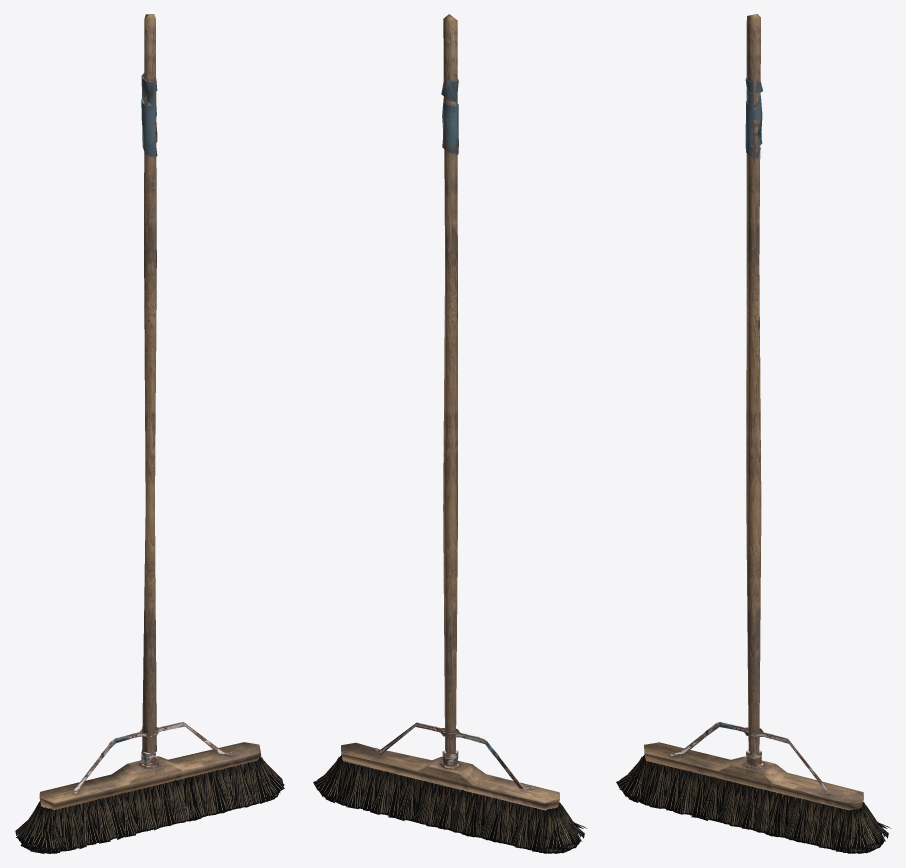
Rendered from wooden_broom.glb.
3 views of the same model, side by side, from view 1: azimuth 30°, elevation 25°; view 2: azimuth 150°, elevation 25°; view 3: azimuth 330°, elevation 25° (orthographic).
Parts seen in each view (by area): view 1: wooden_broom_handle, wooden_broom_bristles; view 2: wooden_broom_handle, wooden_broom_bristles; view 3: wooden_broom_handle, wooden_broom_bristles.
Part boxes in pixels (x1,y1,x2,y2): wooden_broom_handle: [39, 14, 261, 809]; wooden_broom_bristles: [15, 756, 284, 853]; wooden_broom_handle: [341, 14, 559, 810]; wooden_broom_bristles: [313, 755, 586, 853]; wooden_broom_handle: [644, 14, 863, 810]; wooden_broom_bristles: [616, 755, 890, 853].
Bounding box in the file's own units: 0.4902 × 1.45 × 0.1125.
2 materials, 2 textured.
